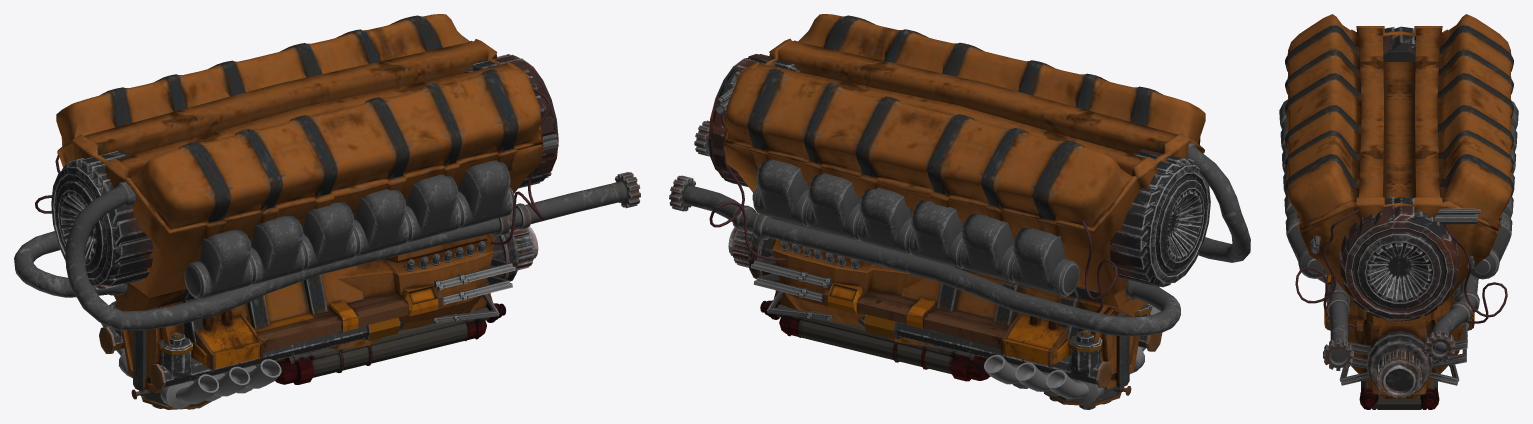
The model's file is eng-m-i4-1000.glb.
3 views of the same model, side by side, from view 1: azimuth 30°, elevation 25°; view 2: azimuth 150°, elevation 25°; view 3: azimuth 270°, elevation 25° (orthographic). The views are drawn at different scales.
Visible parts, largest first — view 1: polySurface299_core_gora_0, polySurface299_tloki1_0, polySurface299_wlew_0, polySurface299_core_dol_0, polySurface299_turbina_txt_0, polySurface299_bok1_0, polySurface299_dol_dol1_0, polySurface299_bok2_0, polySurface299_wydechy1_0, polySurface299_paski1_0, polySurface299_dol_wydechy1_0, polySurface299_pierdoly1_0 (+1 smaller); view 2: polySurface299_core_gora_0, polySurface299_tloki1_0, polySurface299_wlew_0, polySurface299_core_dol_0, polySurface299_turbina_txt_0, polySurface299_bok1_0, polySurface299_dol_dol1_0, polySurface299_bok2_0, polySurface299_wydechy1_0, polySurface299_paski1_0, polySurface299_dol_wydechy1_0, polySurface299_kabelki1_0 (+1 smaller); view 3: polySurface299_core_gora_0, polySurface299_turbina_txt_0, polySurface299_core_dol_0, polySurface299_wlew_0, polySurface299_tloki1_0, polySurface299_paski1_0, polySurface299_kabelki1_0, polySurface299_dol_dol1_0, polySurface299_pierdoly1_0, polySurface299_bok1_0.
Part boxes in pixels (x1,y1,x2,y2): polySurface299_core_gora_0: [56, 14, 543, 297]; polySurface299_tloki1_0: [184, 160, 514, 299]; polySurface299_wlew_0: [14, 169, 640, 330]; polySurface299_core_dol_0: [113, 226, 538, 393]; polySurface299_turbina_txt_0: [51, 54, 558, 289]; polySurface299_bok1_0: [185, 285, 443, 370]; polySurface299_dol_dol1_0: [275, 303, 506, 384]; polySurface299_bok2_0: [99, 301, 403, 390]; polySurface299_wydechy1_0: [101, 323, 281, 408]; polySurface299_paski1_0: [432, 258, 515, 323]; polySurface299_dol_wydechy1_0: [128, 330, 212, 409]; polySurface299_pierdoly1_0: [405, 35, 558, 271]; polySurface299_core_gora_0: [723, 14, 1205, 294]; polySurface299_tloki1_0: [752, 159, 1079, 296]; polySurface299_wlew_0: [669, 120, 1250, 336]; polySurface299_core_dol_0: [728, 218, 1147, 389]; polySurface299_turbina_txt_0: [708, 54, 1210, 287]; polySurface299_bok1_0: [822, 283, 1076, 366]; polySurface299_dol_dol1_0: [760, 300, 990, 381]; polySurface299_bok2_0: [858, 303, 1162, 388]; polySurface299_wydechy1_0: [984, 306, 1160, 403]; polySurface299_paski1_0: [751, 255, 833, 320]; polySurface299_dol_wydechy1_0: [1044, 313, 1132, 409]; polySurface299_kabelki1_0: [709, 114, 1117, 312]; polySurface299_core_gora_0: [1285, 14, 1513, 308]; polySurface299_turbina_txt_0: [1340, 26, 1458, 321]; polySurface299_core_dol_0: [1348, 292, 1463, 398]; polySurface299_wlew_0: [1323, 274, 1479, 370]; polySurface299_tloki1_0: [1279, 99, 1518, 279]; polySurface299_paski1_0: [1339, 323, 1468, 385]; polySurface299_kabelki1_0: [1295, 209, 1507, 328]; polySurface299_dol_dol1_0: [1359, 380, 1439, 409]; polySurface299_pierdoly1_0: [1310, 208, 1480, 316]; polySurface299_bok1_0: [1324, 272, 1474, 330].
Bounding box in the file's own units: 22.74 × 11.33 × 9.53.
Materials: 13 (13 with a texture image).
